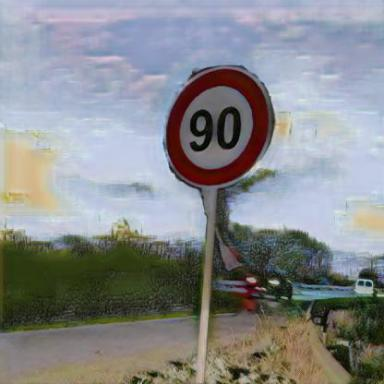Speed_limit_90: (164, 76, 271, 181)
